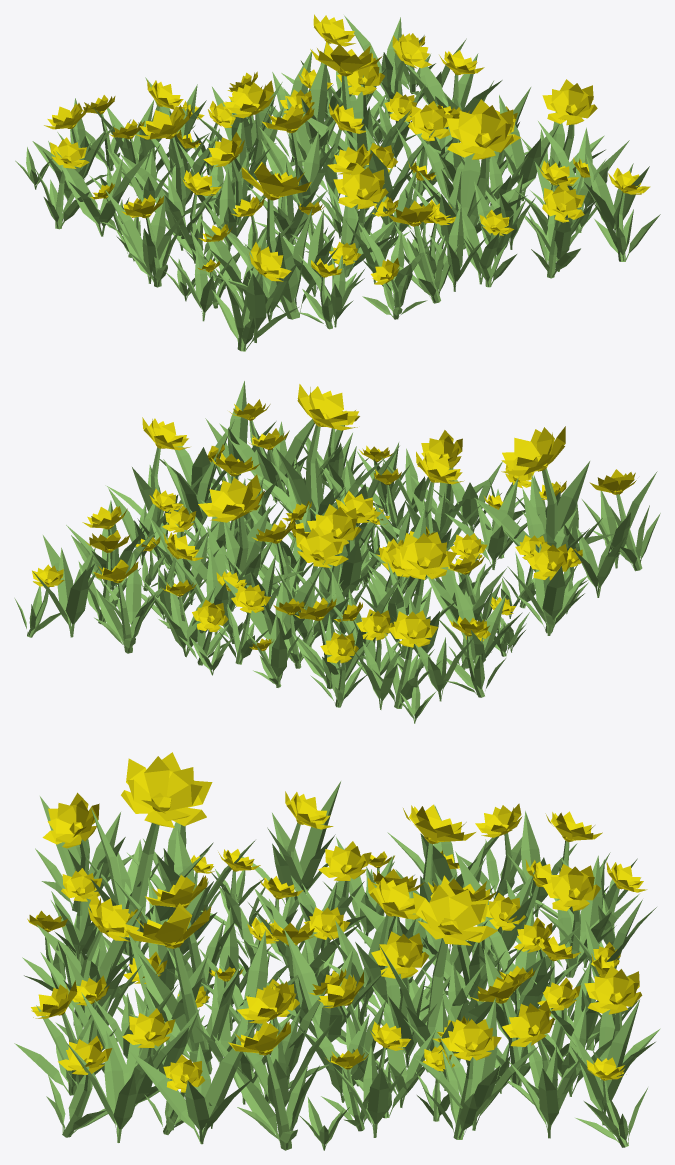
The model's file is FlowerGrassYellow.fbx.
3 renders of one model, top to bottom at view 1: azimuth 30°, elevation 25°; view 2: azimuth 150°, elevation 25°; view 3: azimuth 270°, elevation 25°, orthographic. The views are drawn at different scales.
Parts seen in each view (by area): view 1: Circle.002; view 2: Circle.002; view 3: Circle.002.
Part boxes in pixels (bbox=[...]): Circle.002: bbox=[15, 14, 660, 351]; Circle.002: bbox=[14, 381, 660, 723]; Circle.002: bbox=[14, 752, 660, 1150].
Bounding box in the file's own units: 120 × 36.13 × 113.
